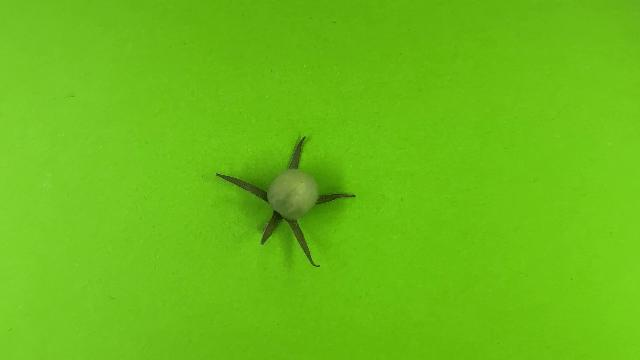Fruit Maturation: (265, 168, 321, 220)
